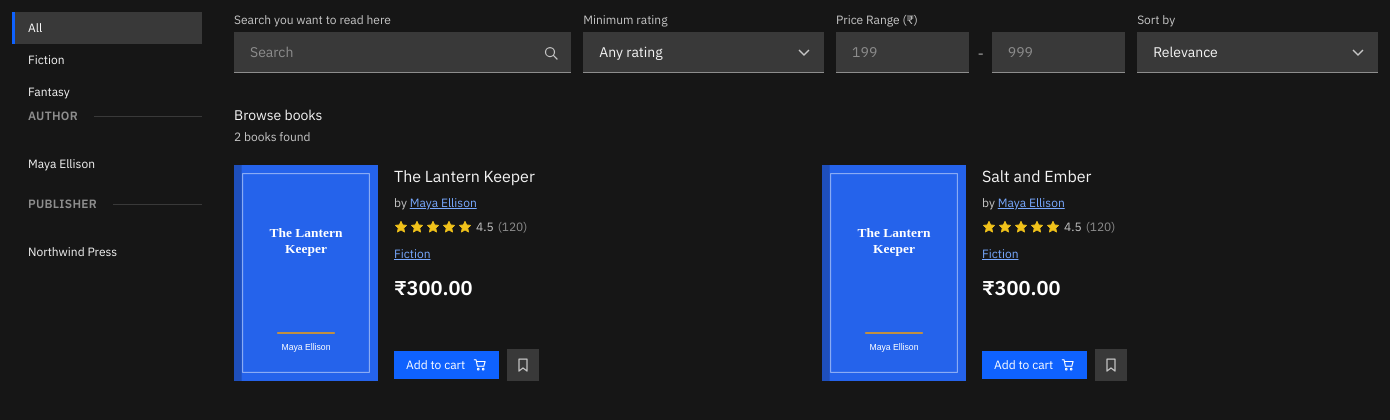
Test case: CatalogPage search & filters › instant search is debounced and updates the query
The width and height of the screenshot is (1390, 420).
Check: the link "Salt and Ember" is shown, box x1=982 y1=166 x2=1091 y2=186
Type "ember" into the search field named "Search the catalog" at (403, 52), box x1=234 y1=32 x2=571 y2=73
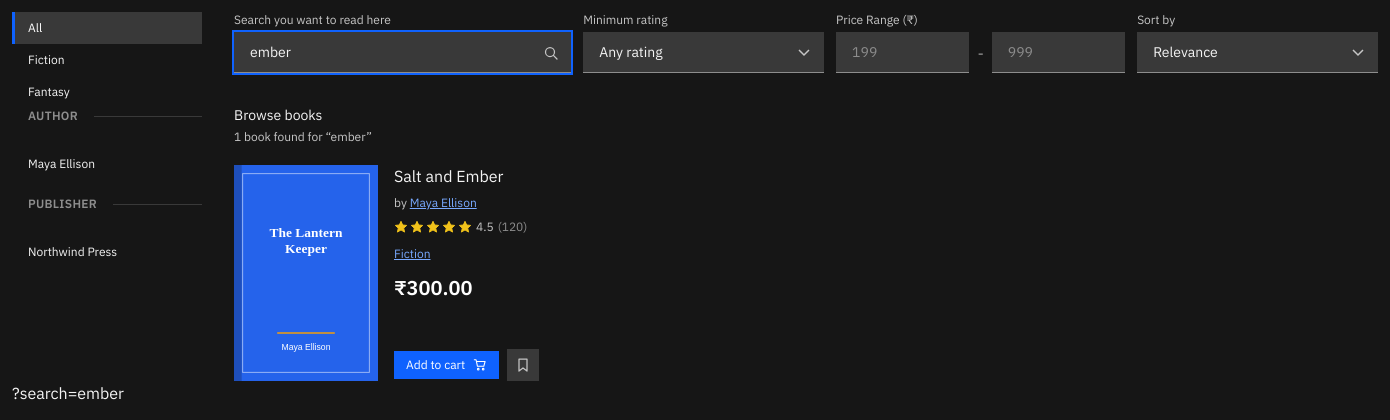
Check: the text with test id "loc" shows "search=ember", box x1=12 y1=383 x2=124 y2=403
Check: the text with test id "result-count" shows "for “ember”", box x1=234 y1=129 x2=372 y2=144
